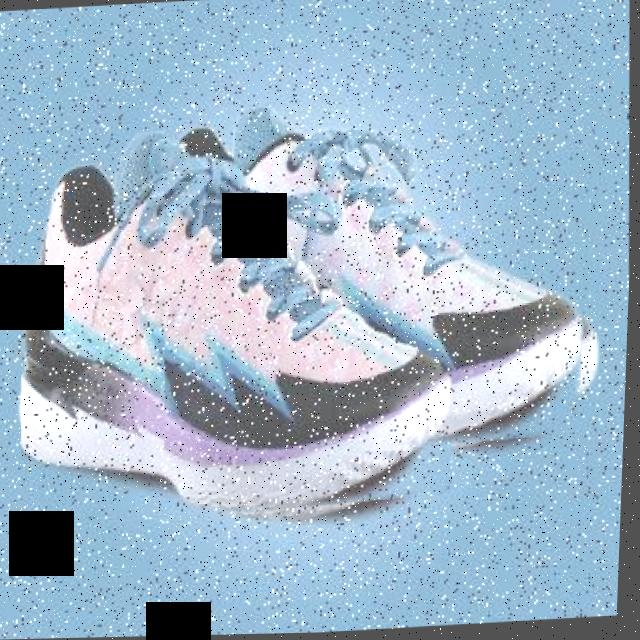shoe: (11, 115, 485, 534), (155, 90, 612, 473)
